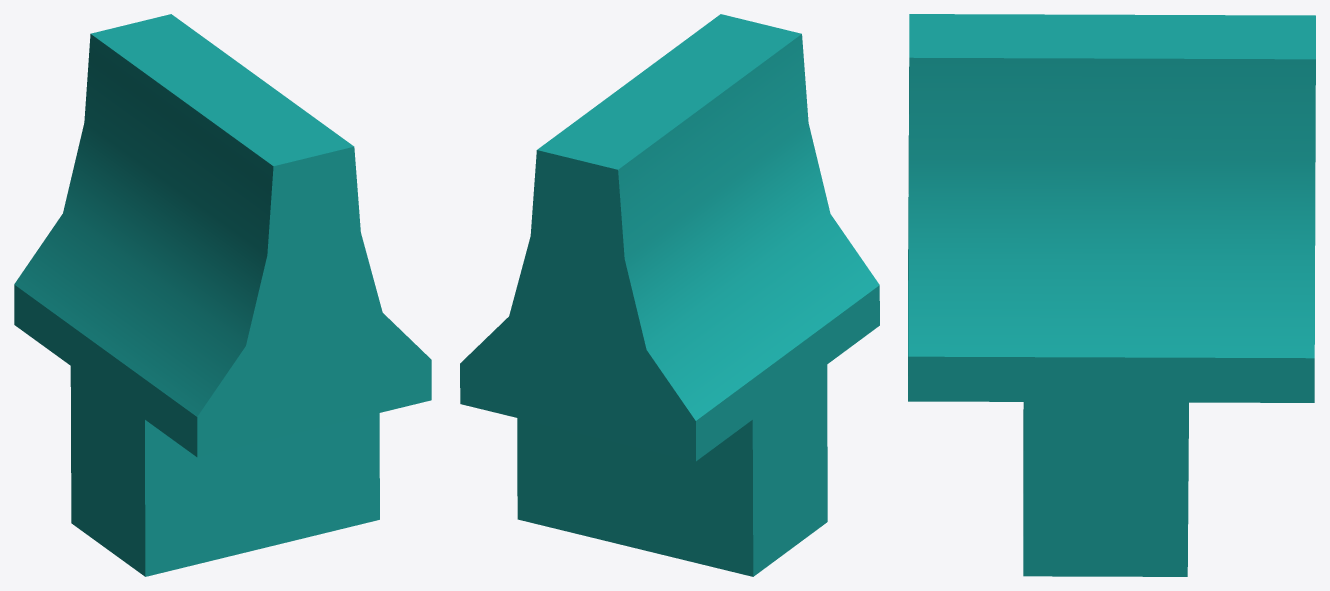
The model's file is SM_Slider.fbx.
The picture shows the model from 3 angles, left to right: view 1: azimuth 30°, elevation 25°; view 2: azimuth 150°, elevation 25°; view 3: azimuth 270°, elevation 25°; orthographic projection. The views are drawn at different scales.
Visible parts, largest first — view 1: SliderHead; view 2: SliderHead; view 3: SliderHead.
Boxes of the visible parts, box(x1,y1,x2,y2) form: SliderHead: box(14, 14, 431, 576); SliderHead: box(460, 14, 879, 576); SliderHead: box(908, 14, 1315, 576).
Bounding box in the file's own units: 0.09 × 0.1577 × 0.1221.
1 material, 1 textured.
